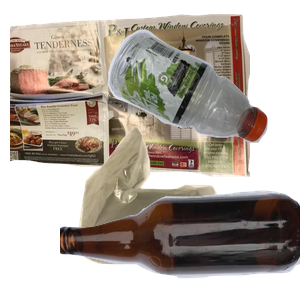glass: (60, 188, 300, 300)
paper: (10, 11, 250, 180)
plastic: (105, 27, 300, 162)
trash: (76, 124, 287, 300)
